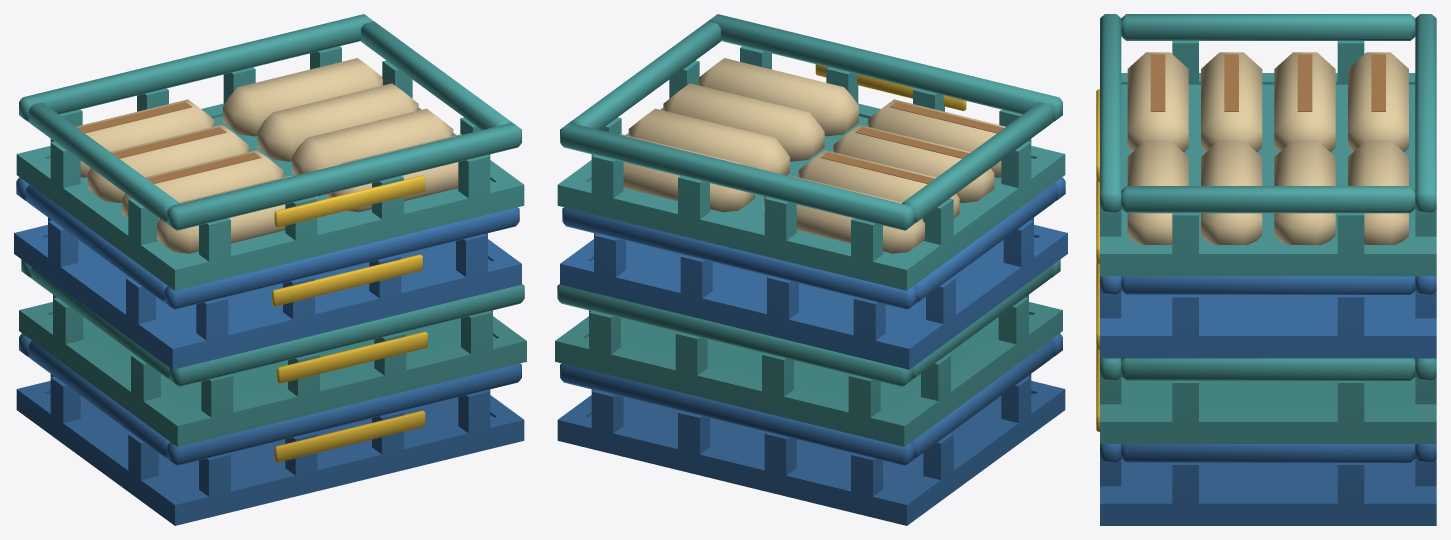
File: SM_BreadCrate_Stack_01.glb
The picture shows the model from 3 angles, left to right: view 1: azimuth 30°, elevation 25°; view 2: azimuth 150°, elevation 25°; view 3: azimuth 270°, elevation 25°; orthographic projection. The views are drawn at different scales.
Visible parts, largest first — view 1: SM_BreadCrate_Stack_01; view 2: SM_BreadCrate_Stack_01; view 3: SM_BreadCrate_Stack_01.
Part boxes in pixels (left/top/right/bottom): SM_BreadCrate_Stack_01: left=14, top=14, right=526, bottom=525; SM_BreadCrate_Stack_01: left=555, top=14, right=1067, bottom=525; SM_BreadCrate_Stack_01: left=1096, top=14, right=1436, bottom=525.
Bounding box in the file's own units: 0.71 × 0.6 × 0.556.
1 material, 1 textured.
